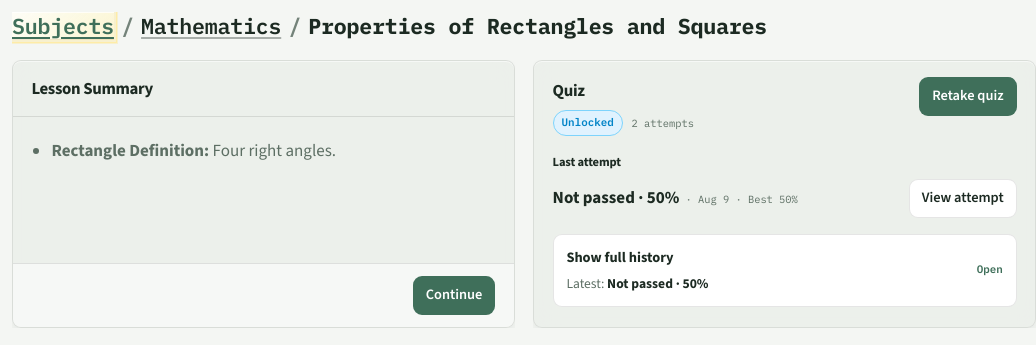
Test: LessonPage › opens a dedicated slides page when continuing the lesson
Check: the heading "Lesson Summary" is shown, box x1=31 y1=77 x2=153 y2=99
Click the link "Continue" at (454, 295), box x1=413 y1=276 x2=495 y2=314
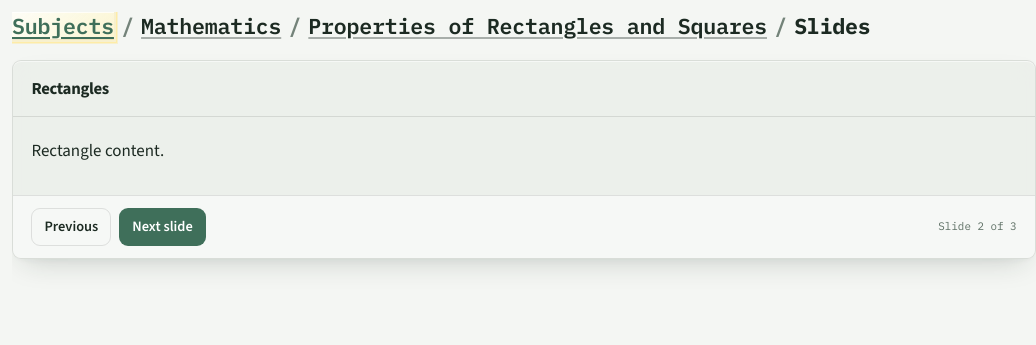
Check: the button "Next slide" is shown, box x1=119 y1=208 x2=206 y2=246
Check: the heading "Rectangles" is shown, box x1=31 y1=77 x2=109 y2=99
Check: the heading "Last attempt" is gone
